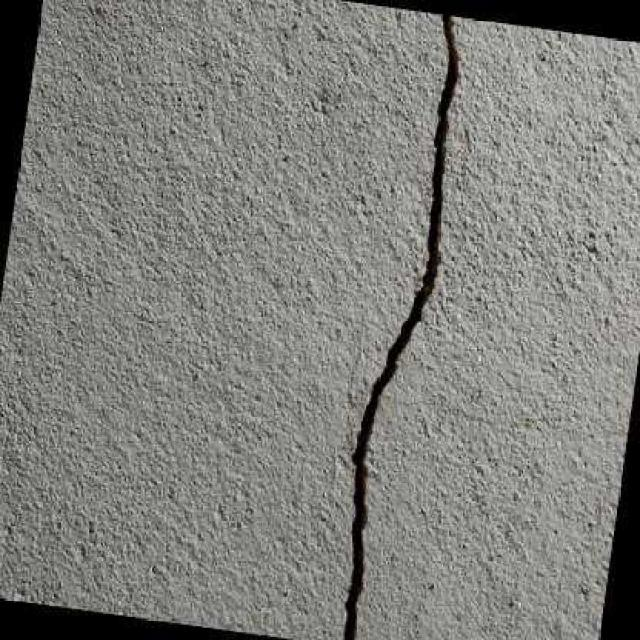D00: (342, 14, 459, 640)
